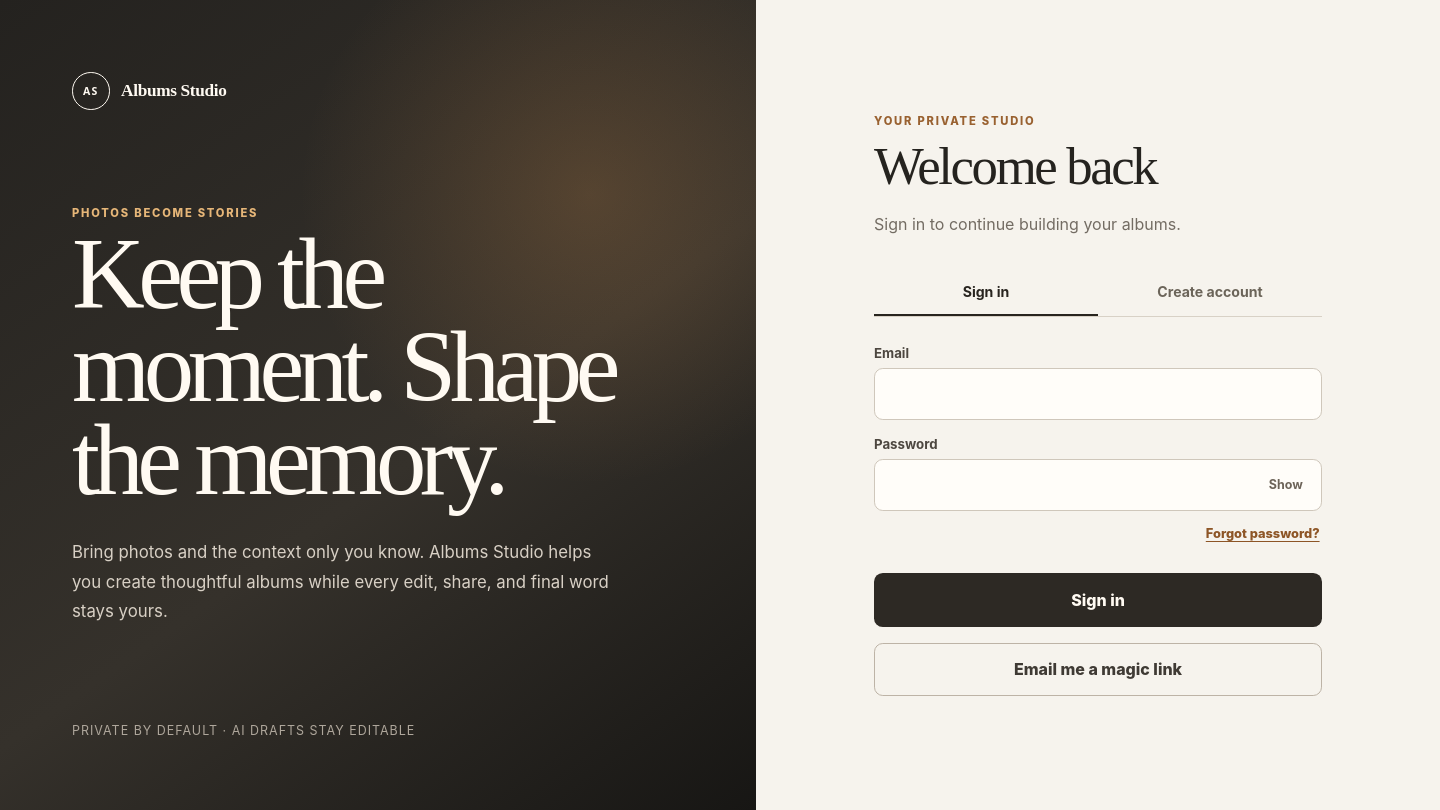
App › surfaces a rejected sign-in without leaving the form
Check: the heading "Welcome back" is shown, box [874,137,1156,195]
Step 1. Type "person@example.com" into the field labelled "Email" → coordinates (1098, 394), box [874,368,1322,420]
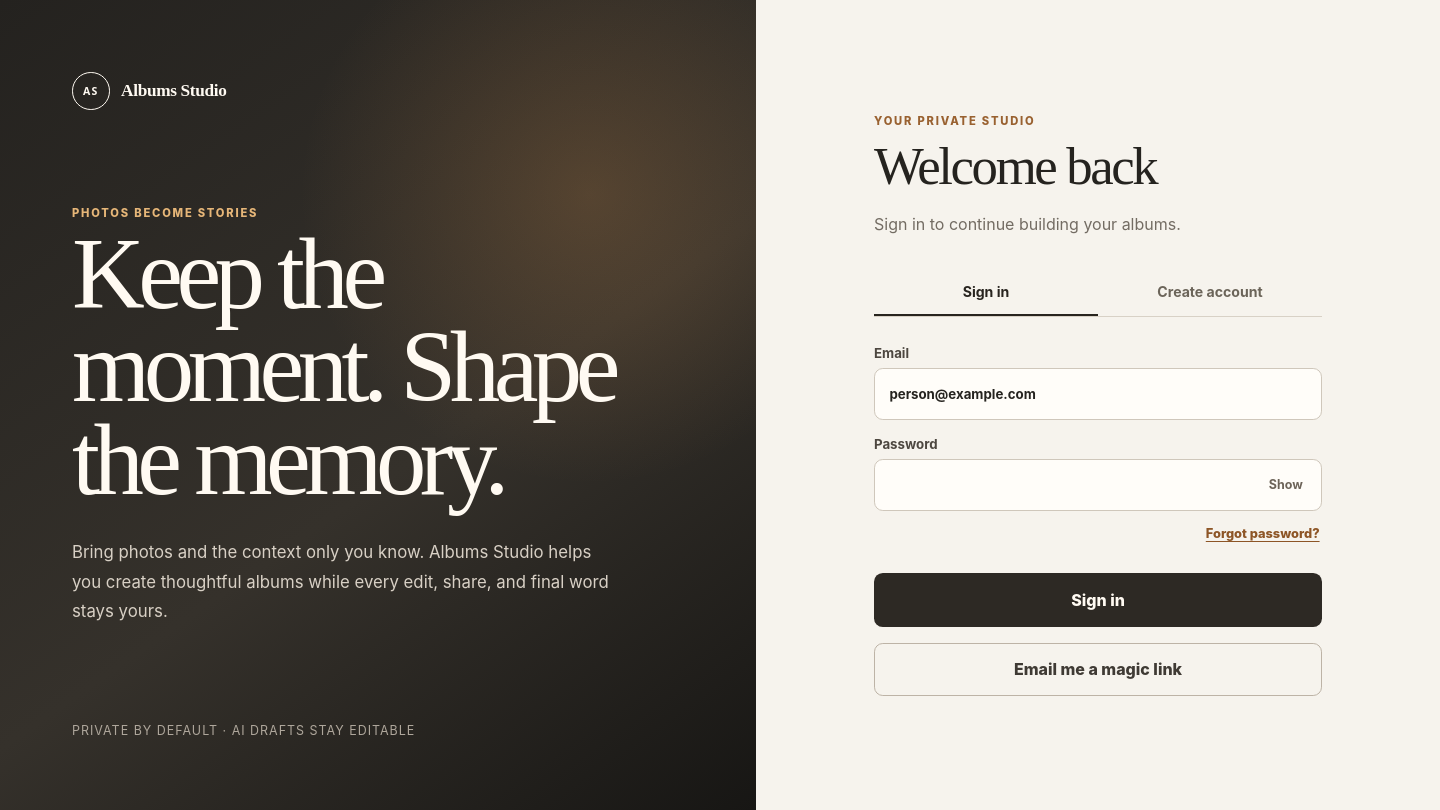
Step 2. Type "wrong-password" into the password field labelled "Password" → coordinates (1098, 485), box [874,459,1322,511]
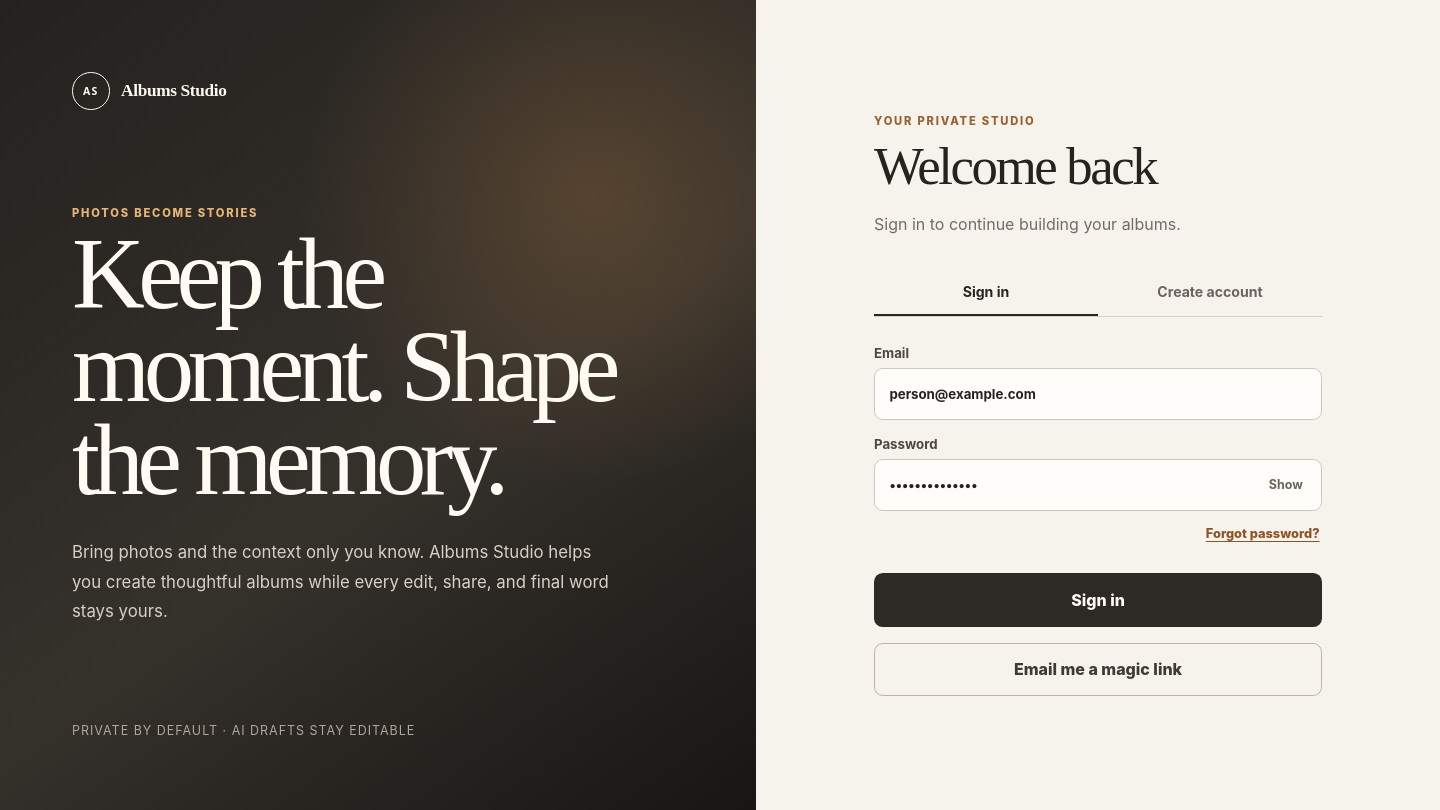
Step 3. Click the 2nd button "Sign in" → coordinates (1098, 600), box [874,573,1322,627]
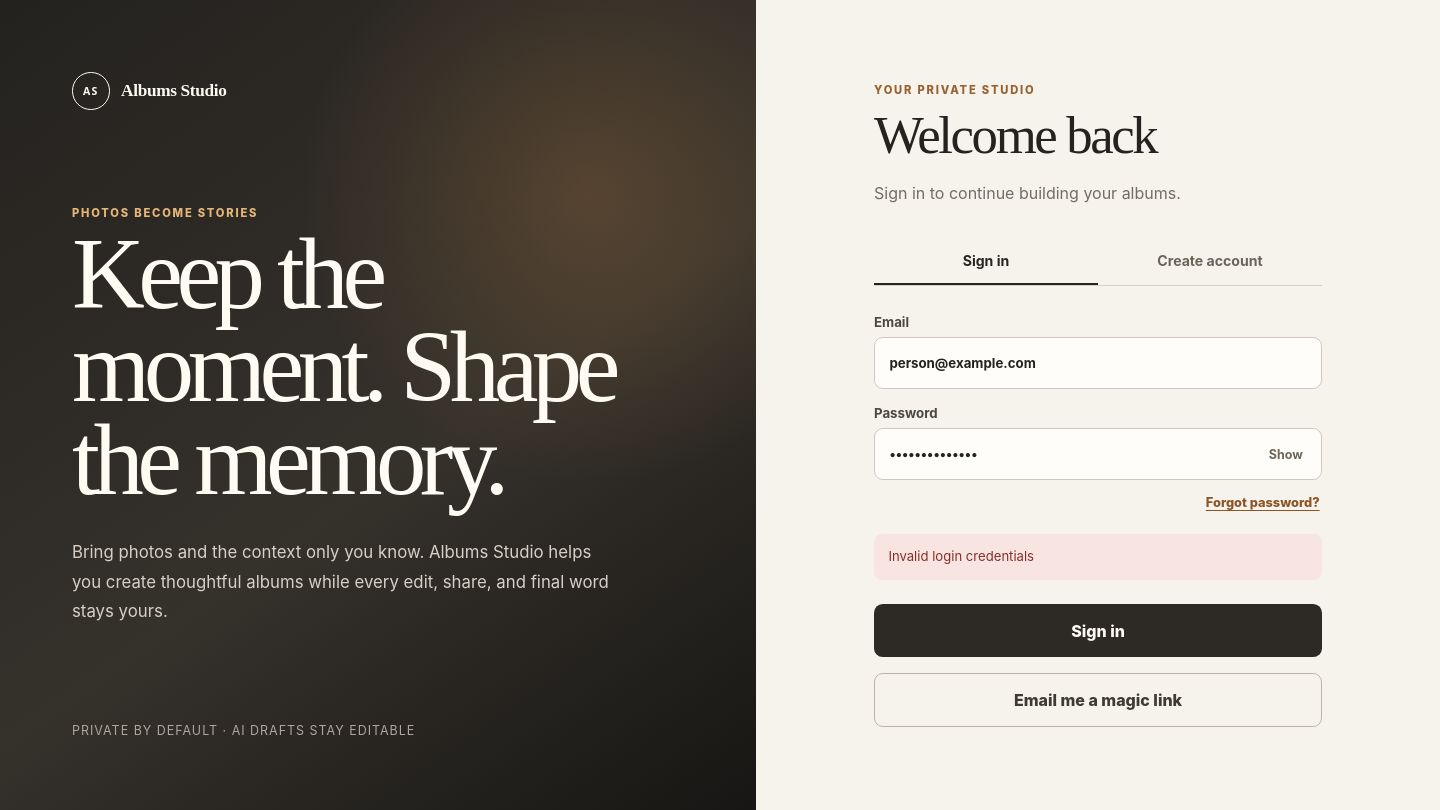
Check: the heading "Welcome back" is shown, box [874,106,1156,164]
Check: the message reads "Invalid login credentials", box [888,548,1034,564]
